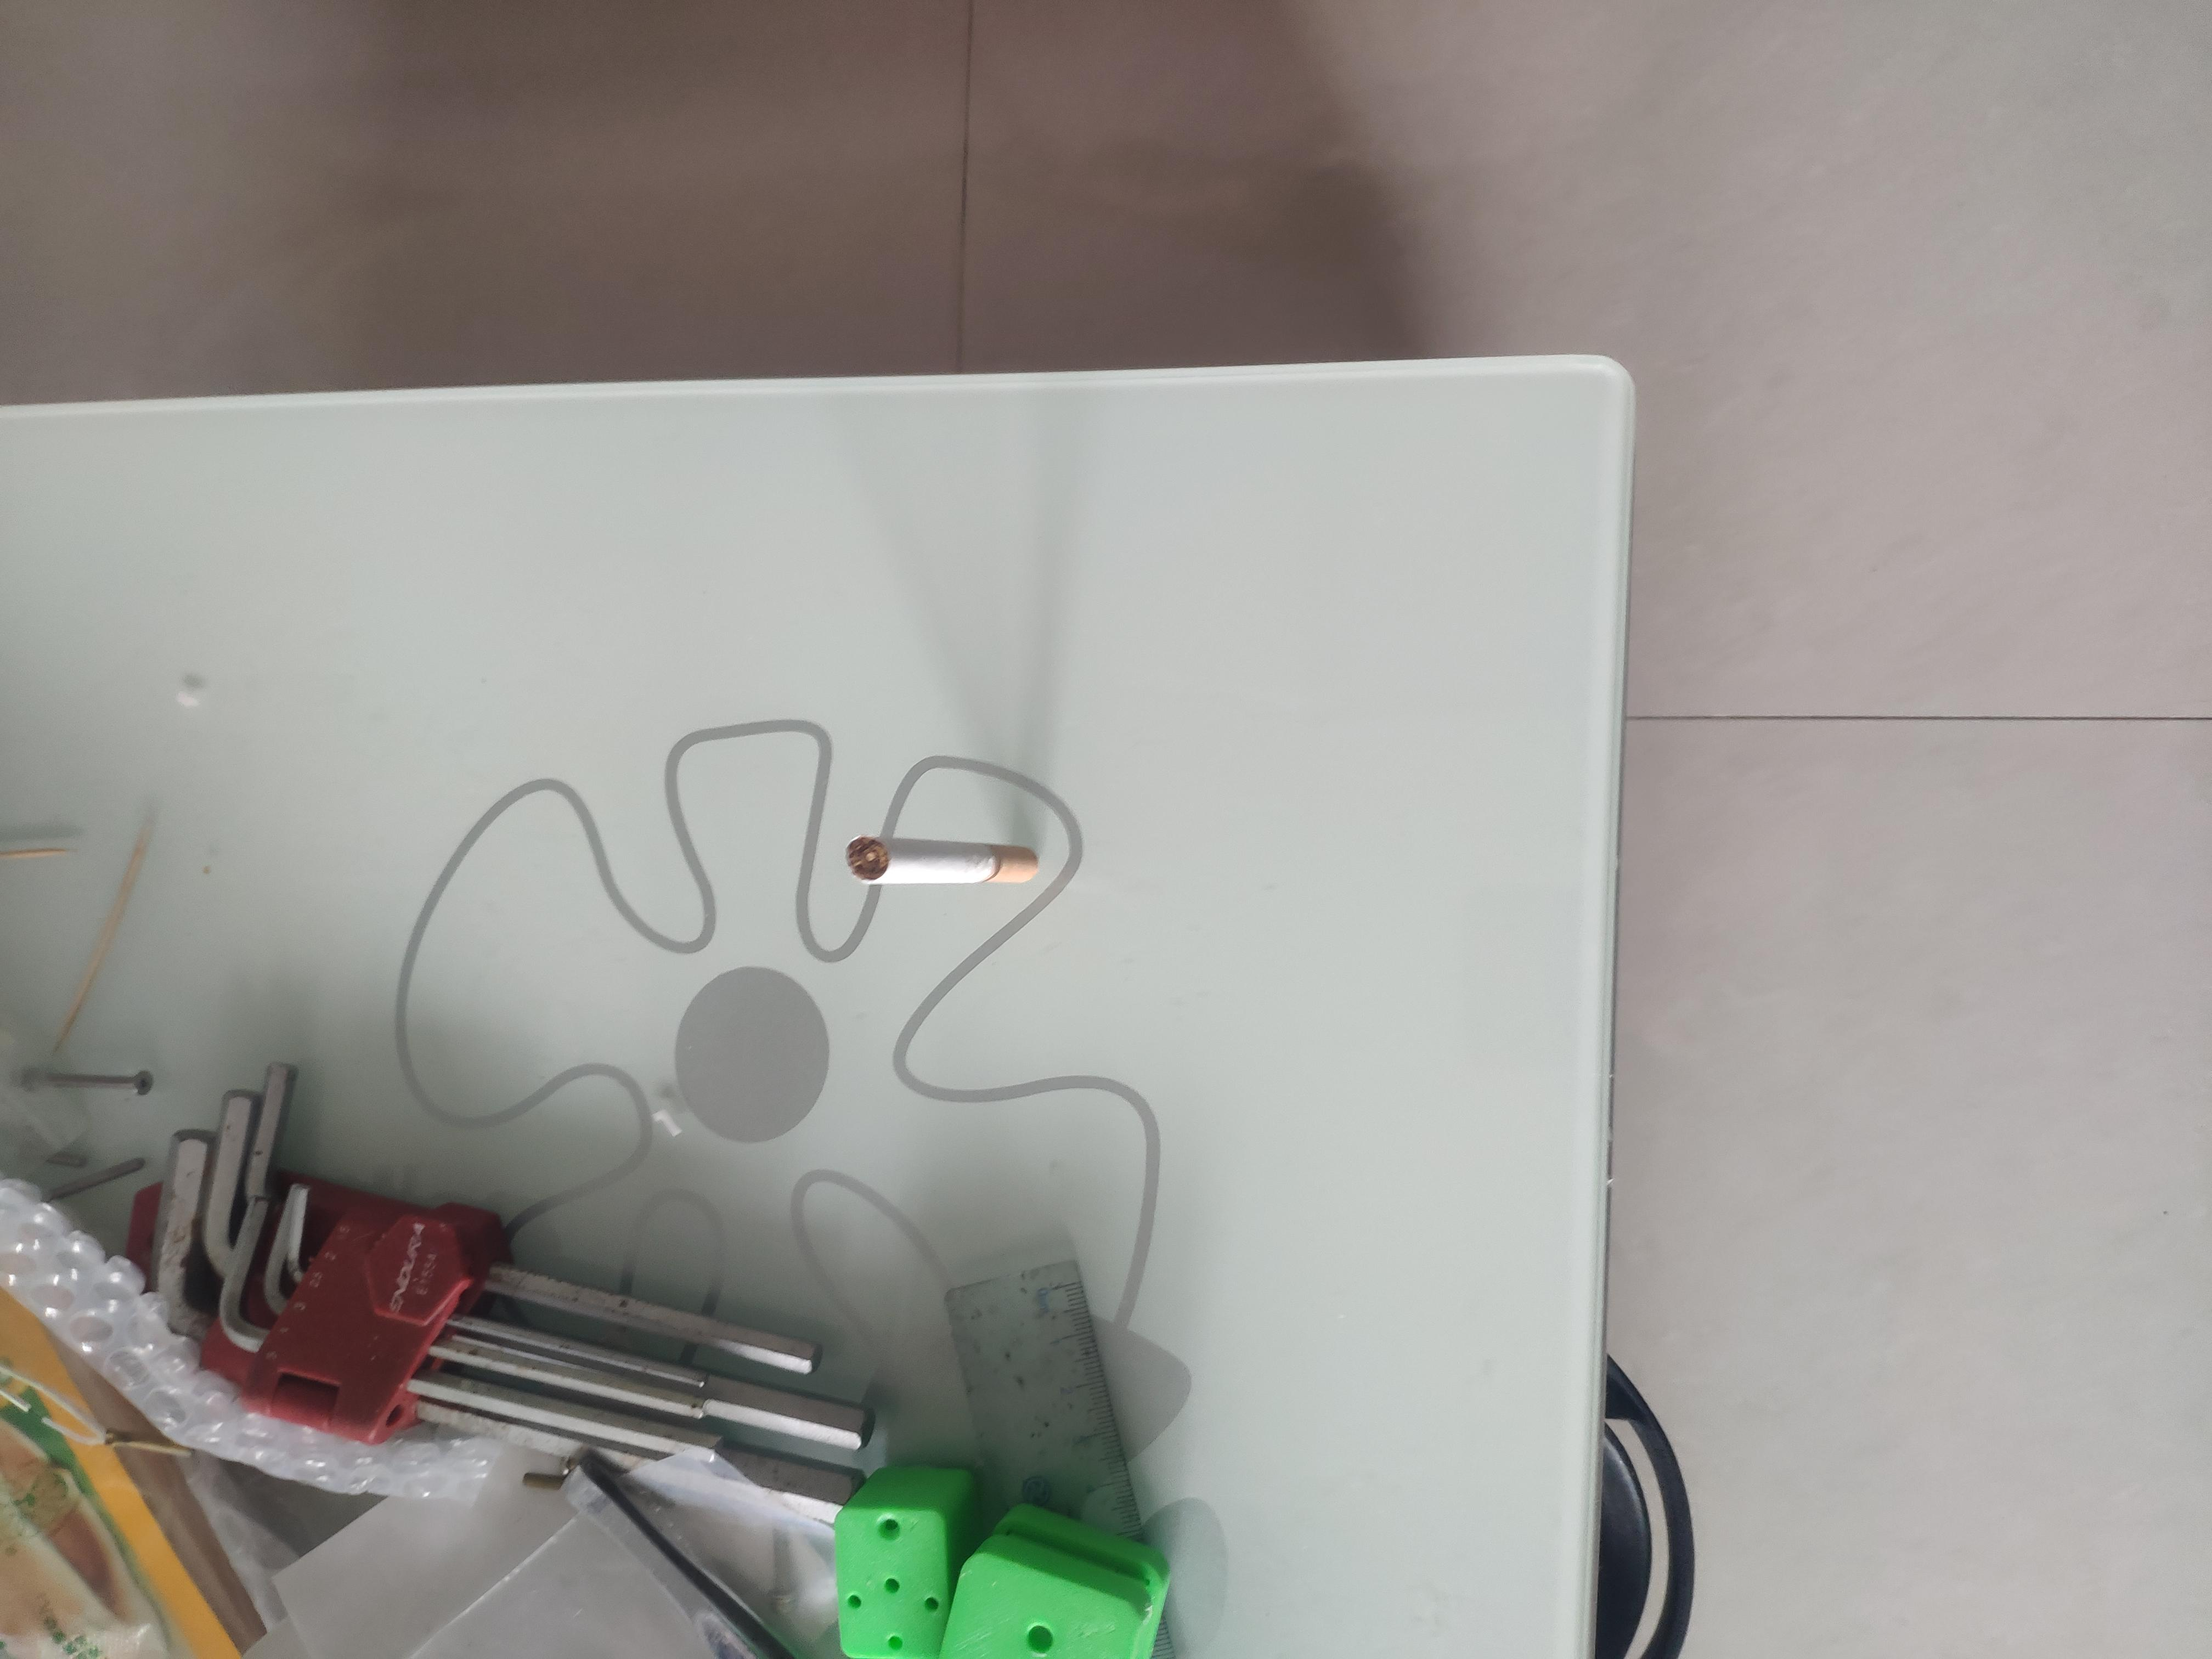smoke: (1036, 634, 1097, 782)
